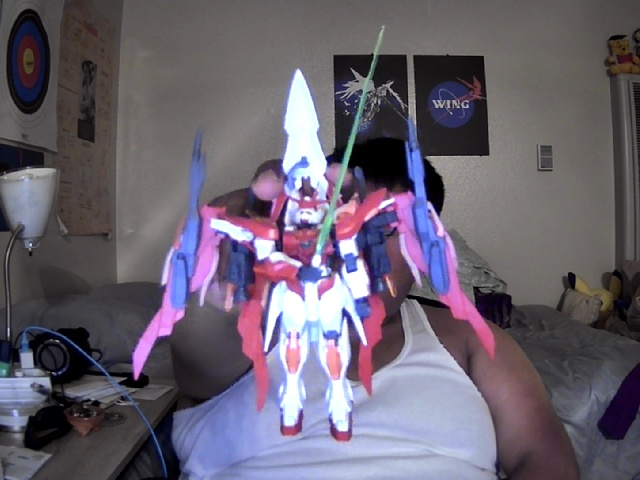Honoo: (132, 67, 496, 442)
